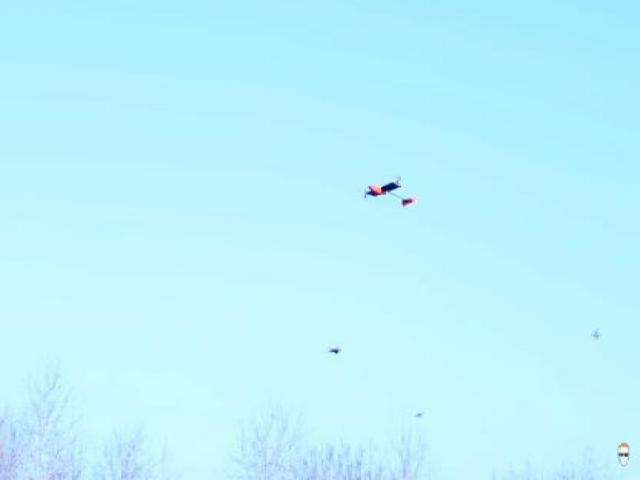uav: (357, 171, 420, 213)
